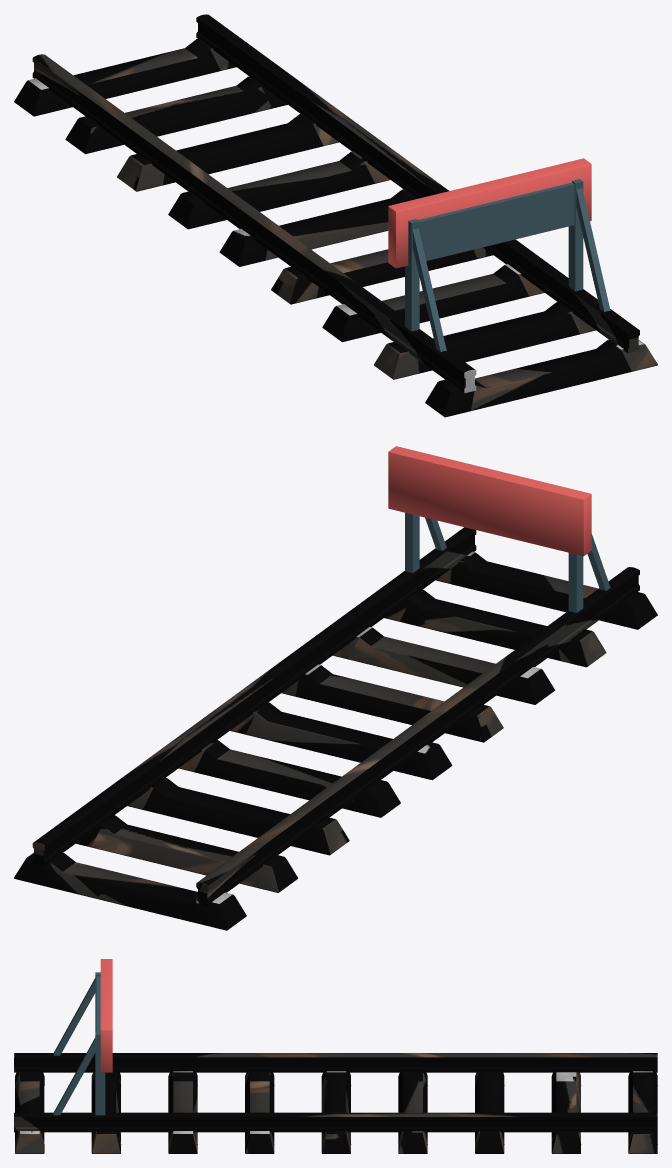
File: rail1.fbx
3 views of the same model, one above another, from view 1: azimuth 30°, elevation 25°; view 2: azimuth 150°, elevation 25°; view 3: azimuth 270°, elevation 25° (orthographic). The views are drawn at different scales.
Parts seen in each view (by area): view 1: Board.005; view 2: Board.005; view 3: Board.005.
Boxes of the visible parts, x1,y1,x2,y2 form: Board.005: [14, 14, 657, 417]; Board.005: [14, 446, 657, 930]; Board.005: [14, 959, 657, 1153].
Bounding box in the file's own units: 180 × 130 × 630.
